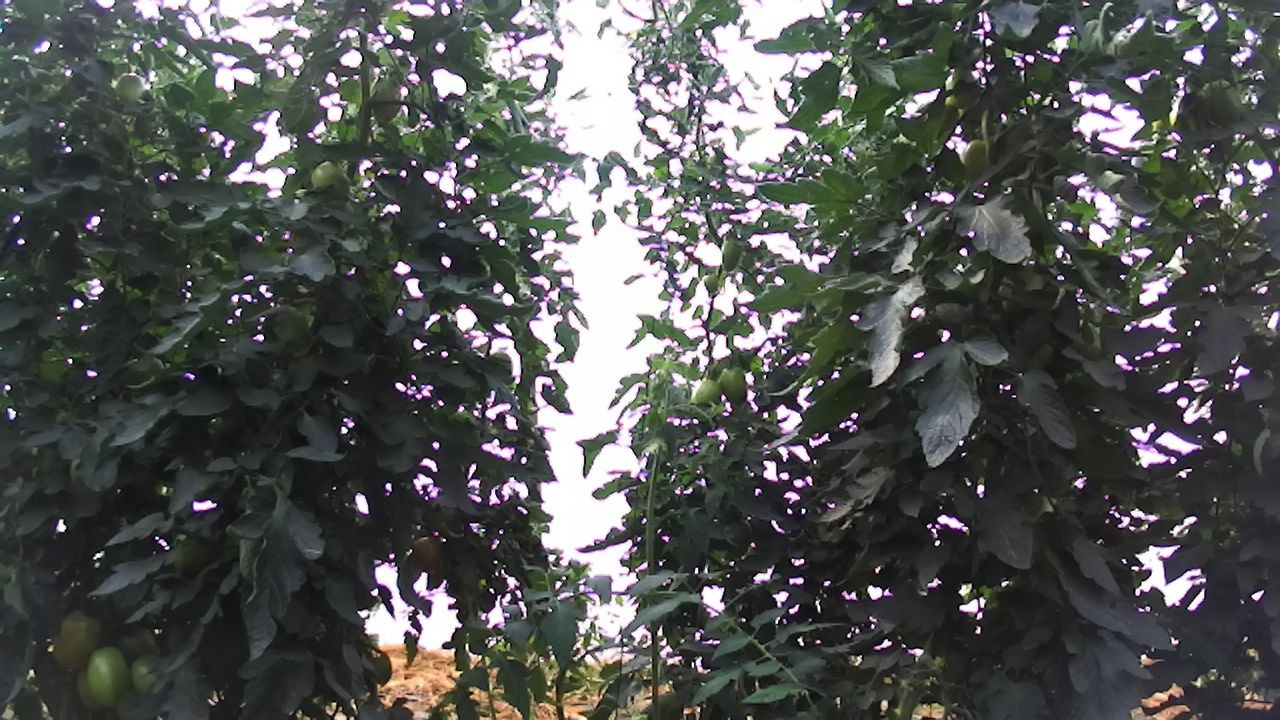tomato: (51, 607, 107, 674), (82, 642, 135, 710), (409, 533, 446, 577), (306, 157, 344, 193), (719, 364, 747, 405), (690, 377, 723, 403)
